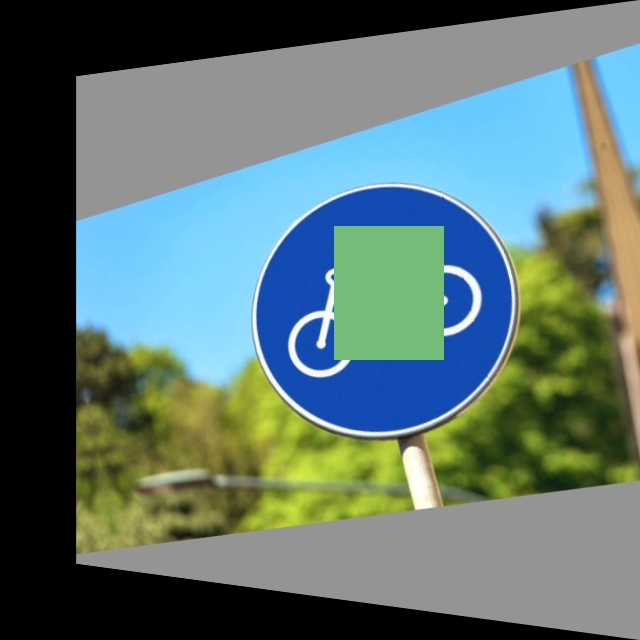Compulsory_Cycle_Track: (228, 144, 552, 476)
